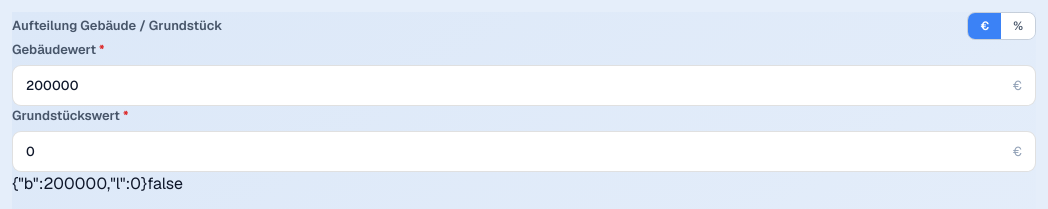
BuildingShareFields › clamps the displayed share when the euro values are inconsistent and keeps them untouched
Click the button "%": (1018, 26) [1001, 13, 1035, 39]
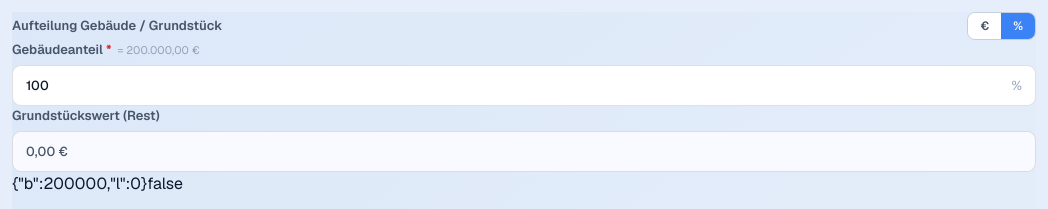
Check: the field labelled "Gebäudeanteil *= 200.000,00 € %" holds "100", box [13, 66, 1012, 105]
